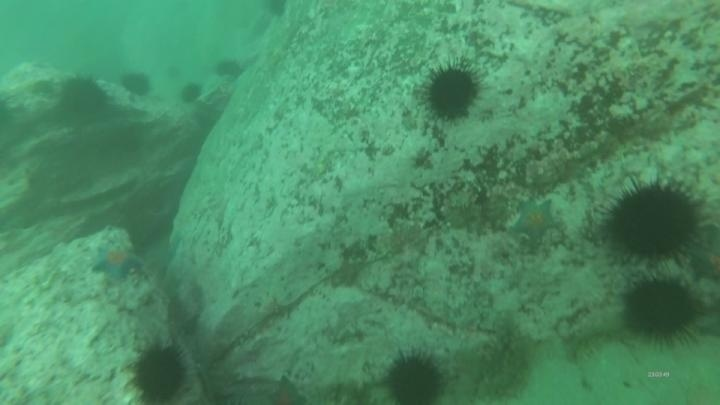echinus: (603, 177, 703, 267), (619, 274, 703, 346), (127, 340, 192, 404), (421, 61, 483, 123), (382, 349, 448, 405), (59, 75, 109, 121), (119, 70, 154, 99), (213, 57, 245, 82), (178, 81, 204, 106), (262, 0, 290, 20)
holothurian: (562, 325, 620, 364)
starfish: (509, 197, 559, 243), (90, 243, 144, 281), (686, 229, 720, 285), (264, 375, 309, 404)
